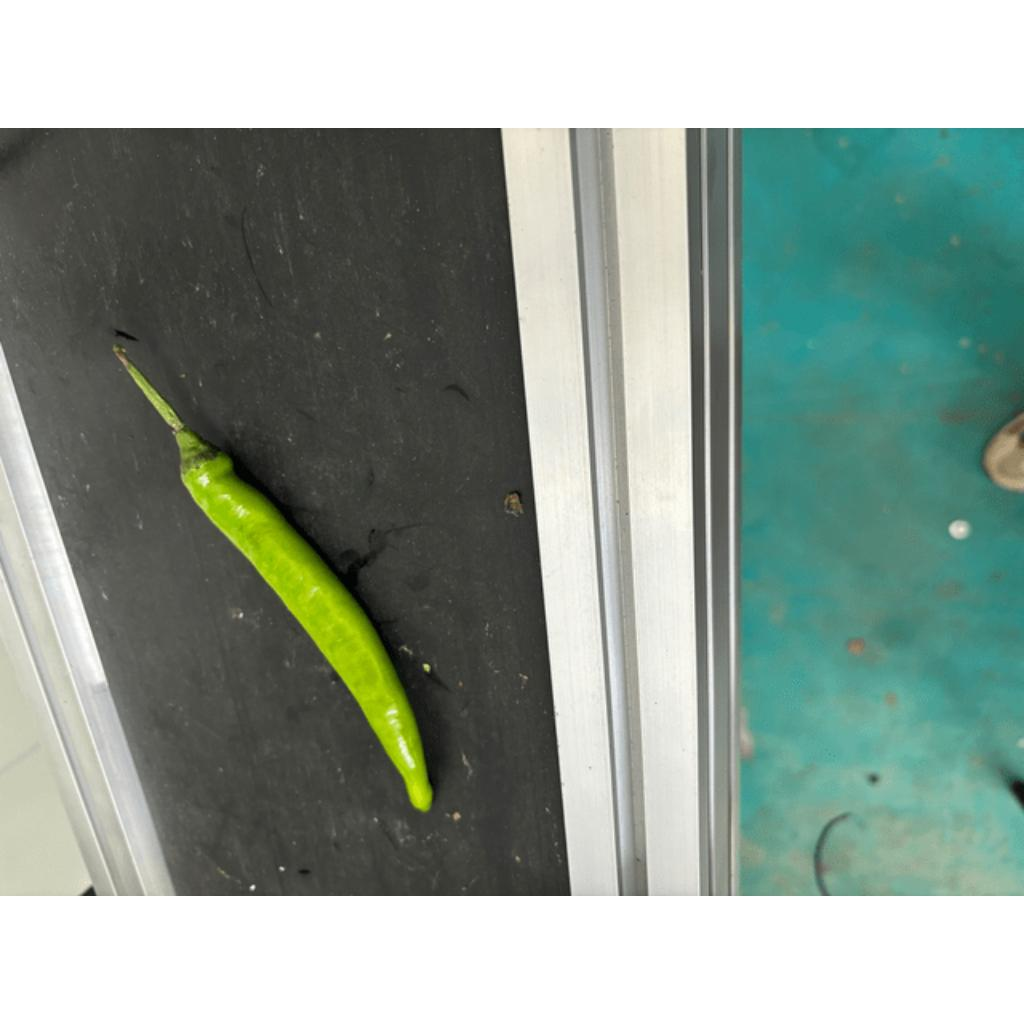chili: (179, 440, 434, 815)
